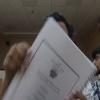notebook: (0, 15, 97, 99)
